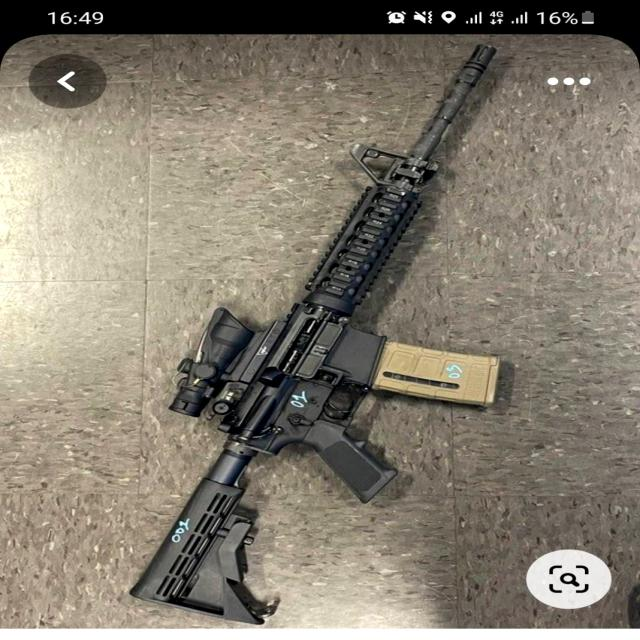m16: (115, 36, 523, 631)
